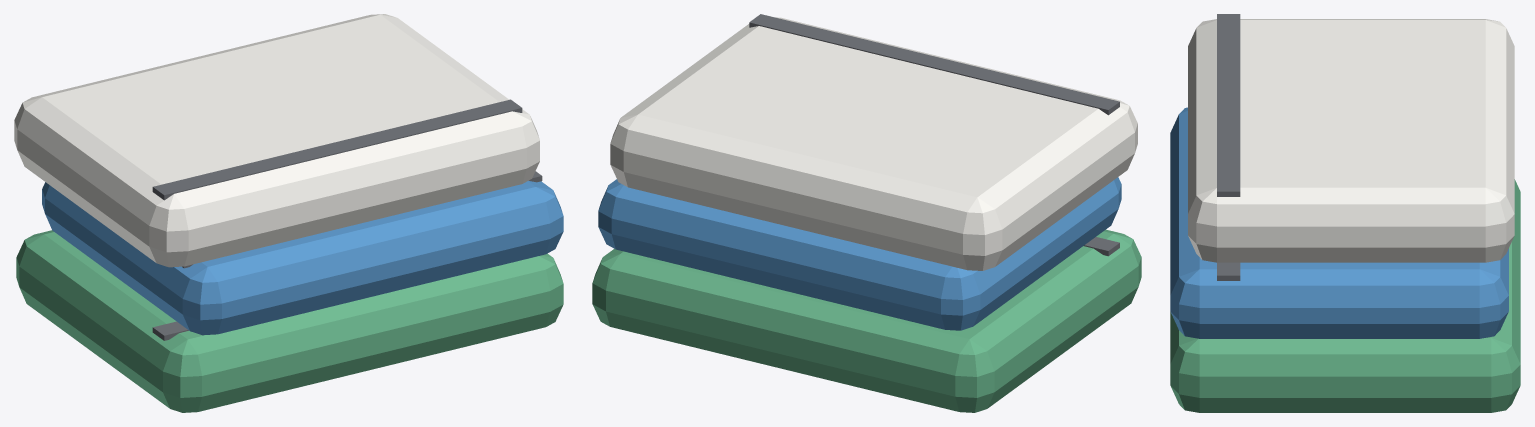
The model's file is boarding-kennels-and-cattery-boarding-kennels-and-catt-6408a150__35542.glb.
The picture shows the model from 3 angles, left to right: view 1: azimuth 30°, elevation 25°; view 2: azimuth 150°, elevation 25°; view 3: azimuth 270°, elevation 25°; orthographic projection.
Visible parts, largest first — view 1: boarding-kennels-and-cattery-folded-blanket-stack; view 2: boarding-kennels-and-cattery-folded-blanket-stack; view 3: boarding-kennels-and-cattery-folded-blanket-stack.
Boxes of the visible parts, x1,y1,x2,y2 form: boarding-kennels-and-cattery-folded-blanket-stack: (14, 14, 563, 412); boarding-kennels-and-cattery-folded-blanket-stack: (592, 14, 1141, 412); boarding-kennels-and-cattery-folded-blanket-stack: (1170, 14, 1520, 412).
Bounding box in the file's own units: 0.405 × 0.206 × 0.3.
